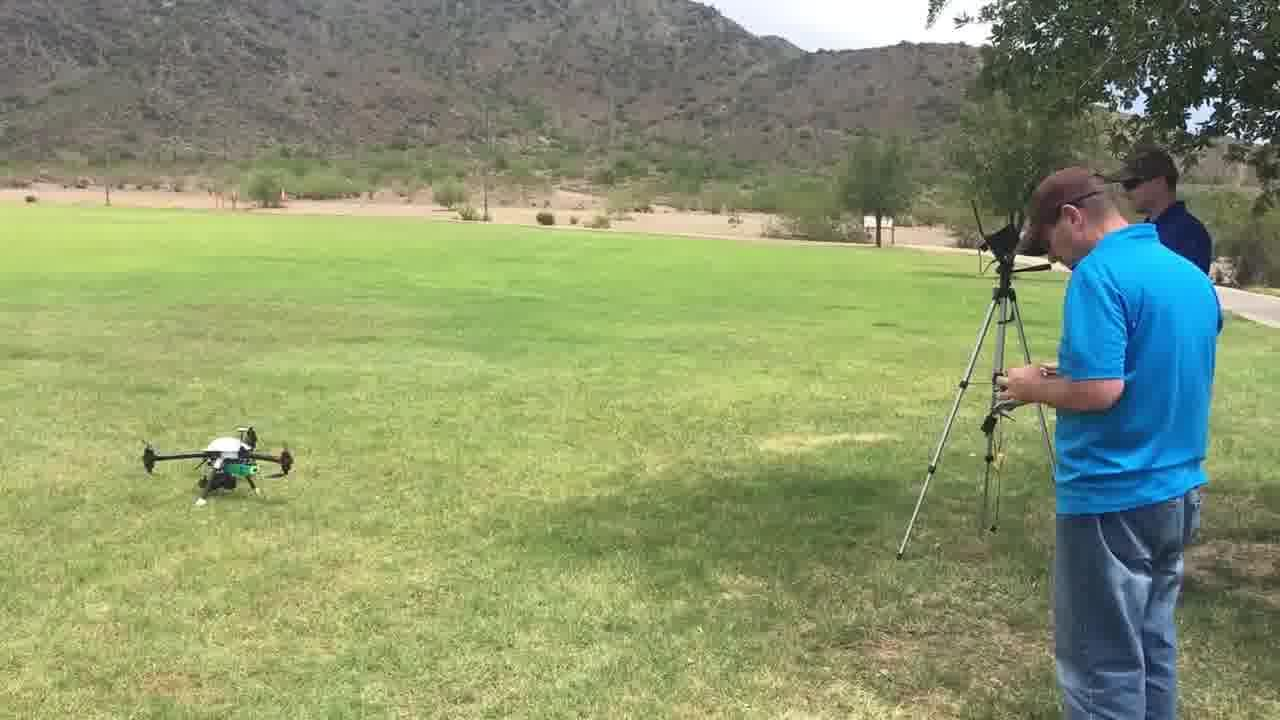drone: (138, 423, 322, 500)
